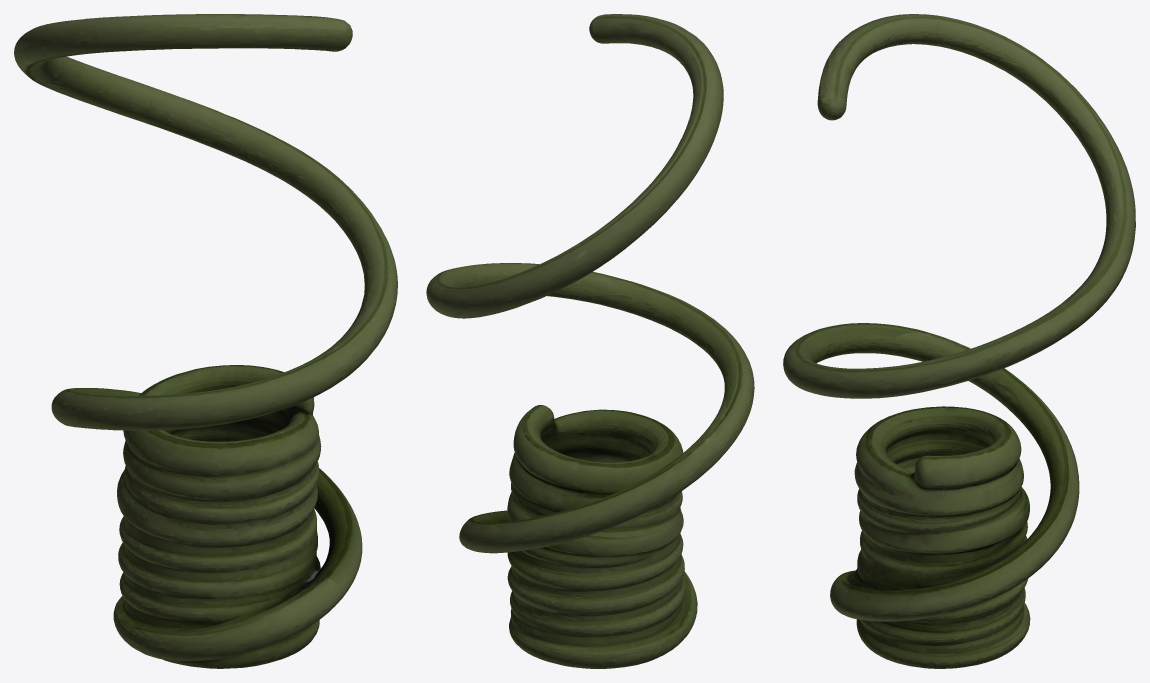
The model's file is 03_6_gj_pen_holder1-opt-v11.glb.
The picture shows the model from 3 angles, left to right: view 1: azimuth 30°, elevation 25°; view 2: azimuth 150°, elevation 25°; view 3: azimuth 270°, elevation 25°; orthographic projection. The views are drawn at different scales.
Parts seen in each view (by area): view 1: tripo_node_c66e9d44-3401-48d4-bc1d-c42708ec62ac.002; view 2: tripo_node_c66e9d44-3401-48d4-bc1d-c42708ec62ac.002; view 3: tripo_node_c66e9d44-3401-48d4-bc1d-c42708ec62ac.002.
Part boxes in pixels (box(x1,y1,x2,y2)): tripo_node_c66e9d44-3401-48d4-bc1d-c42708ec62ac.002: box(14, 14, 397, 668); tripo_node_c66e9d44-3401-48d4-bc1d-c42708ec62ac.002: box(426, 14, 754, 668); tripo_node_c66e9d44-3401-48d4-bc1d-c42708ec62ac.002: box(783, 14, 1135, 668).
Bounding box in the file's own units: 0.1365 × 0.2803 × 0.1542.
Materials: 1 (1 with a texture image).
